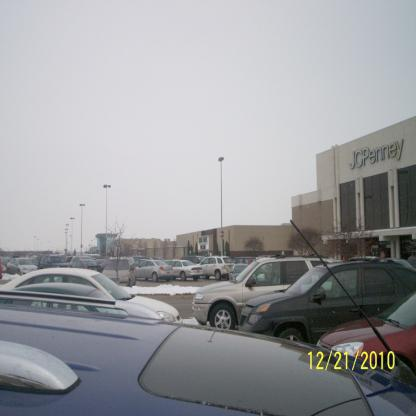Car: (0, 220, 416, 416)
